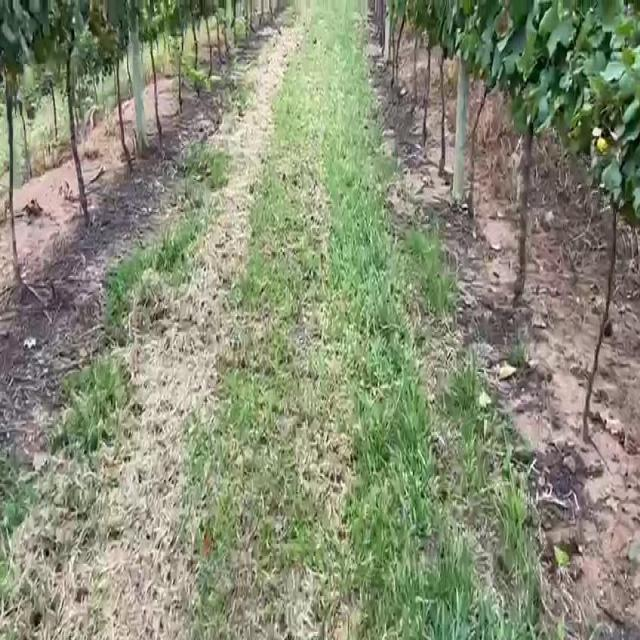tree trunk: (66, 29, 88, 226), (513, 121, 533, 302), (128, 0, 147, 155), (452, 56, 468, 201)
